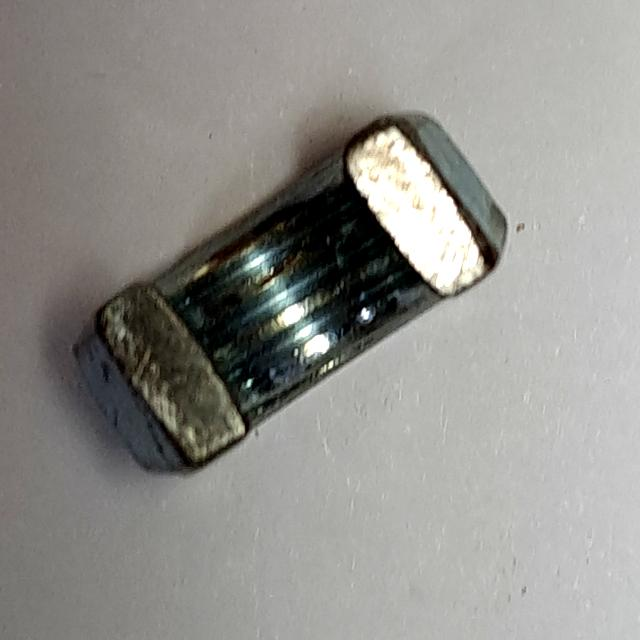Side-Fracture: (64, 98, 524, 495)
